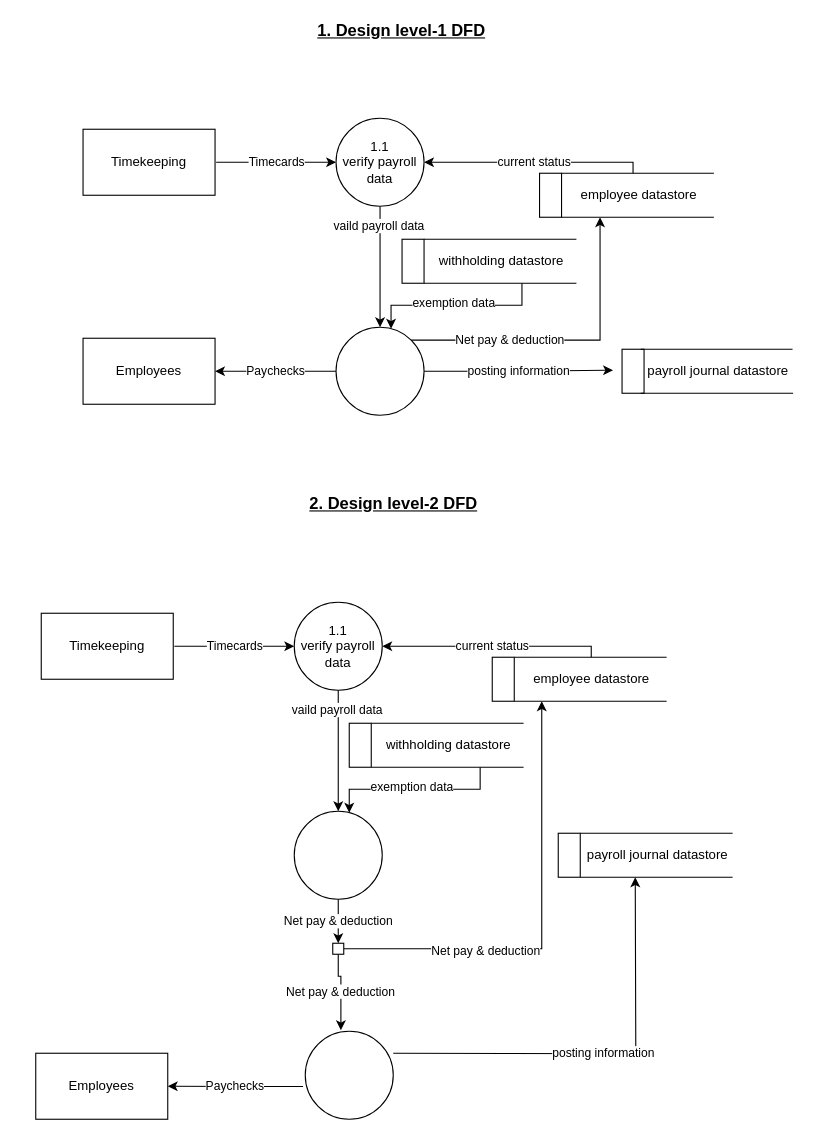
The diagram is 824 pixels wide and 1139 high, and some of its shapes have lost their labels. The centre of each missing label's shape, as x and y in pixels:
1.2 calculate pay: the point at 379,370
1.2.1 compute net pay: the point at 337,854
1.2.2 prepare payroll: the point at 348,1074
